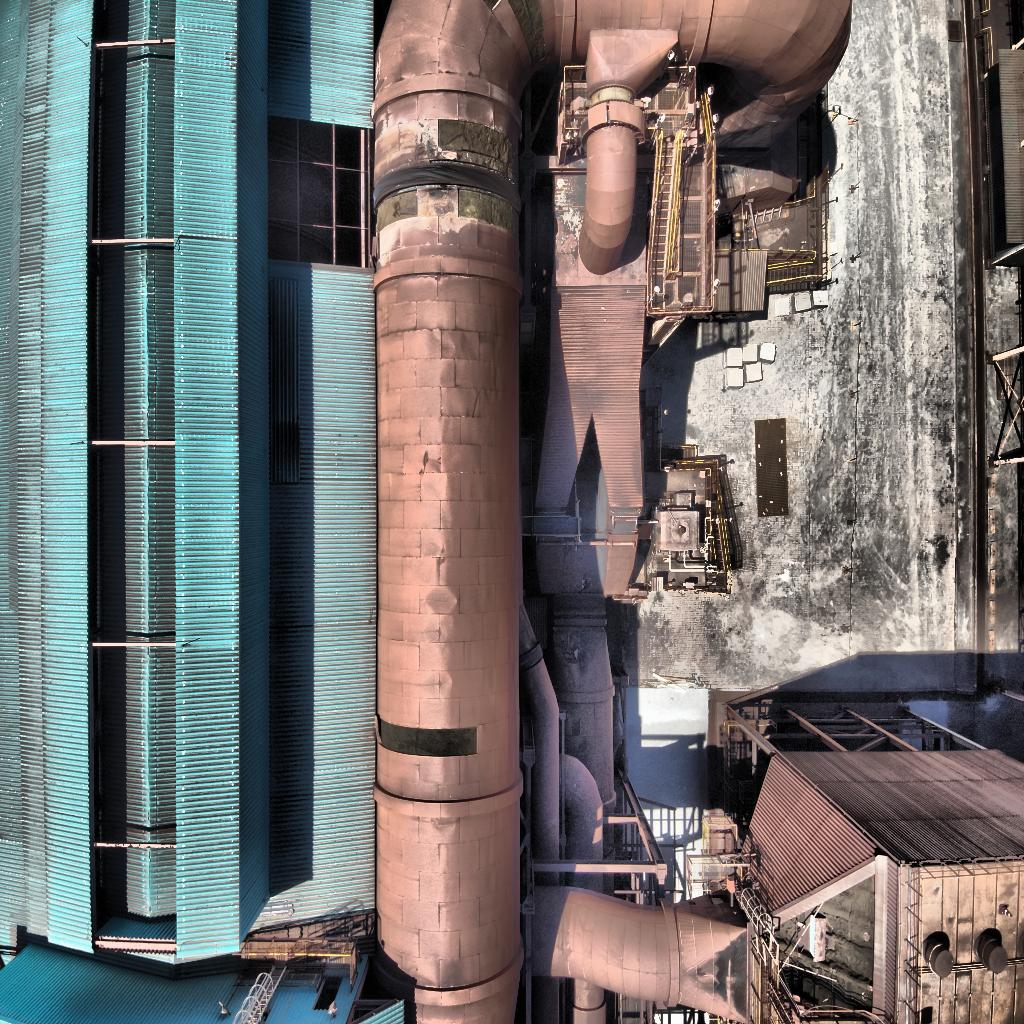Failures: (766, 882, 885, 1014), (436, 118, 522, 192), (372, 712, 479, 757), (457, 185, 528, 241), (508, 0, 548, 66), (374, 187, 422, 228), (363, 228, 385, 275), (483, 0, 505, 16)
